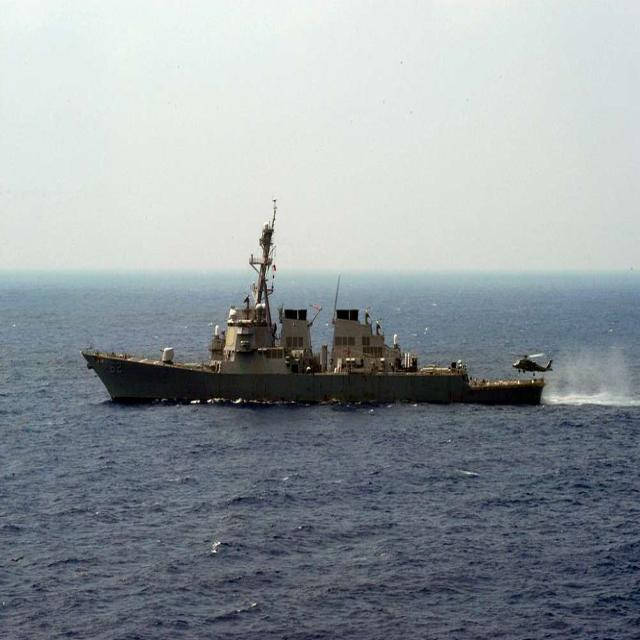navalvessels: (89, 178, 552, 418)
